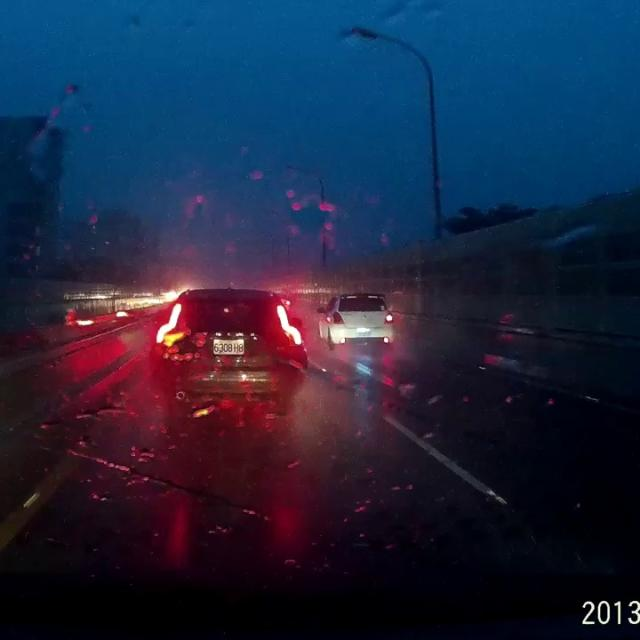Car: (152, 281, 310, 402), (315, 291, 393, 348)
